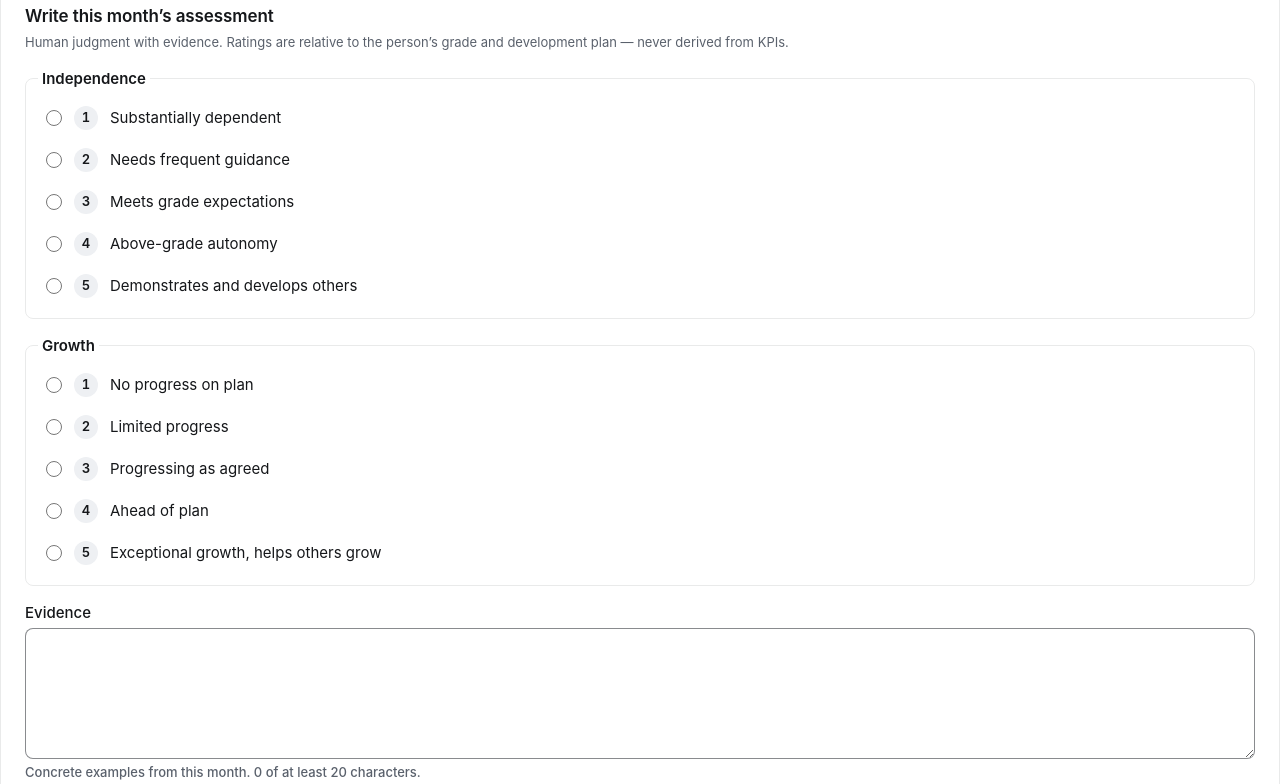
Test case: AssessmentForm › shows server errors accessibly
This screenshot has width=1280, height=784.
Click the radio button named "3: Meets grade expectations": (54,202) [46, 194, 62, 210]
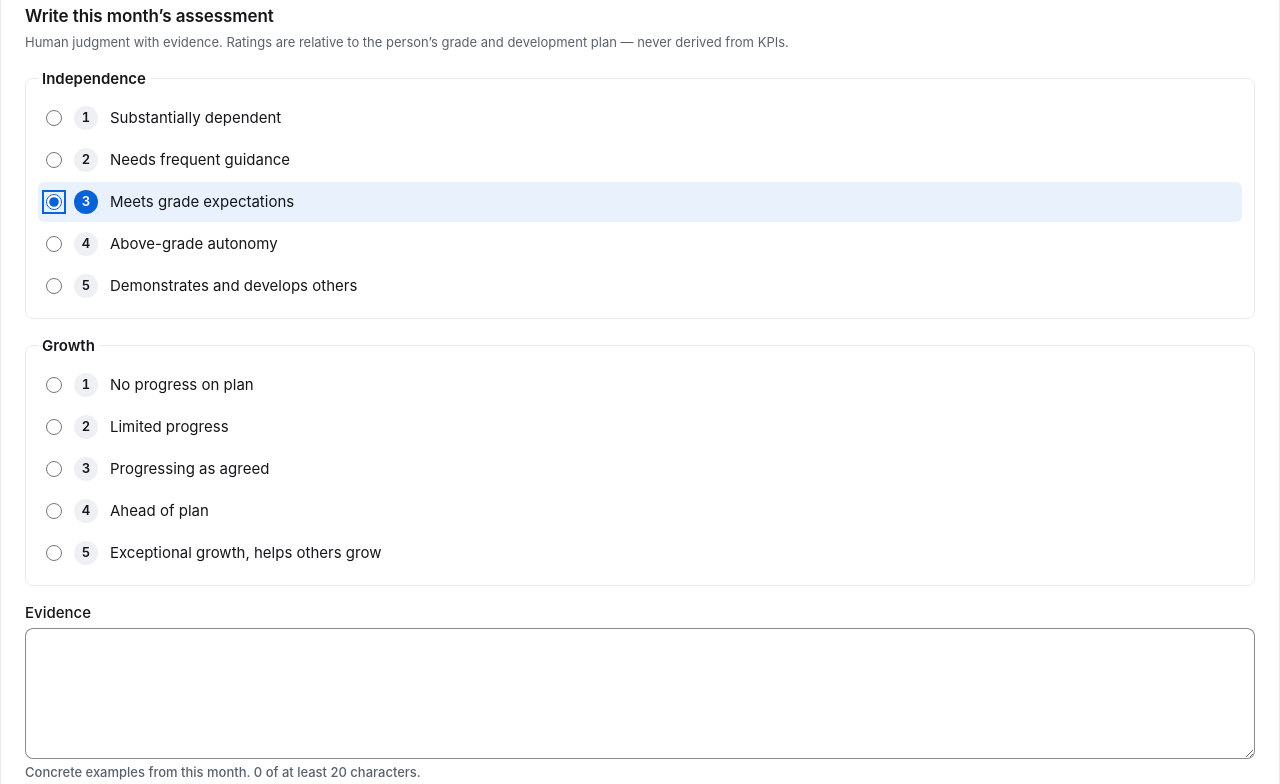
Click the radio button named "3: Progressing as agreed": (54,469) [46, 461, 62, 477]
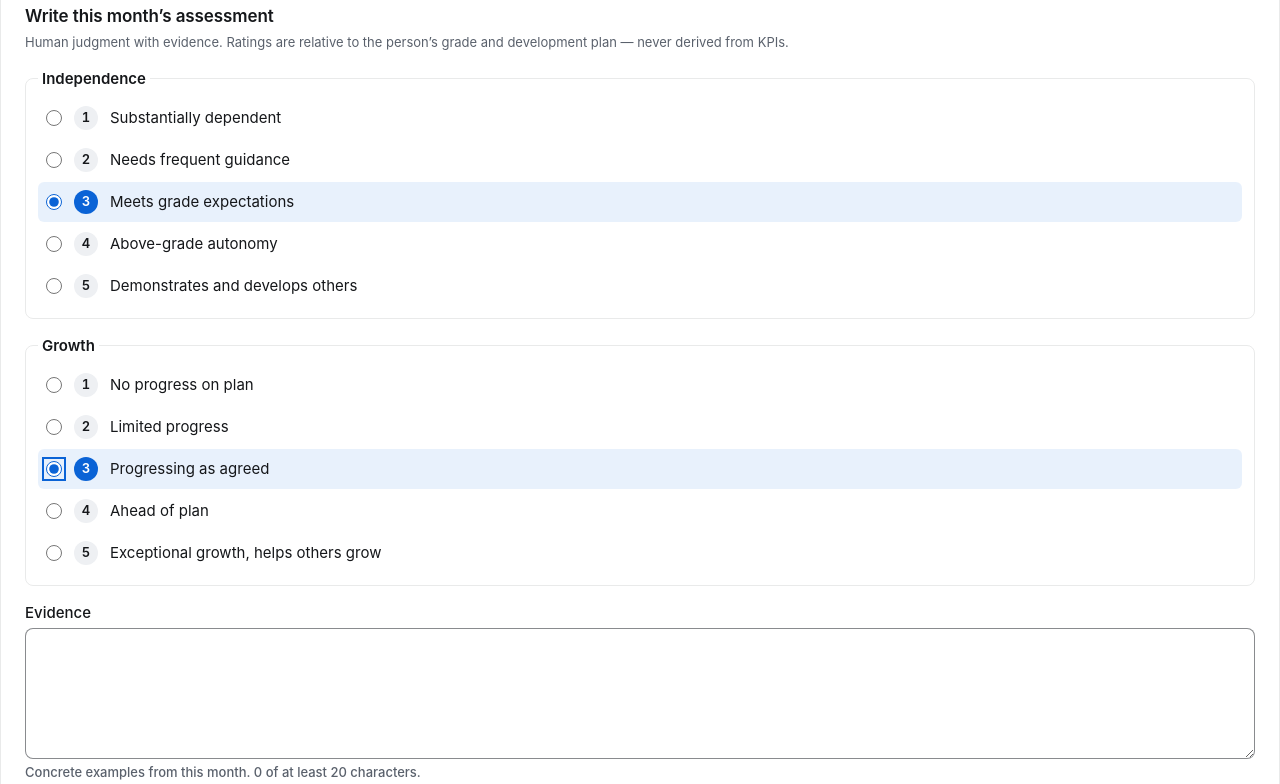
In the text box: (640,693) [25, 628, 1255, 758], type "Evidence that is long enough to pass."
(page scrolled)
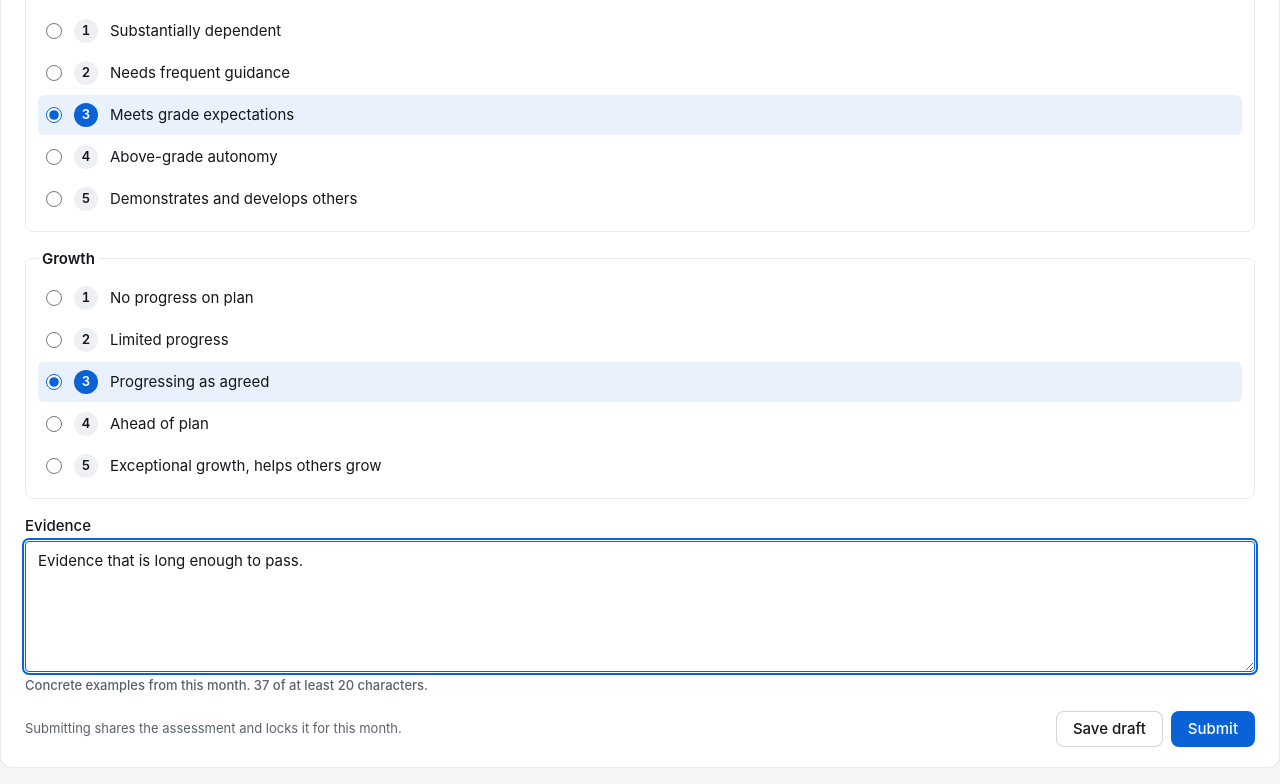
Click the button "Submit": (1213,729) [1171, 711, 1255, 747]
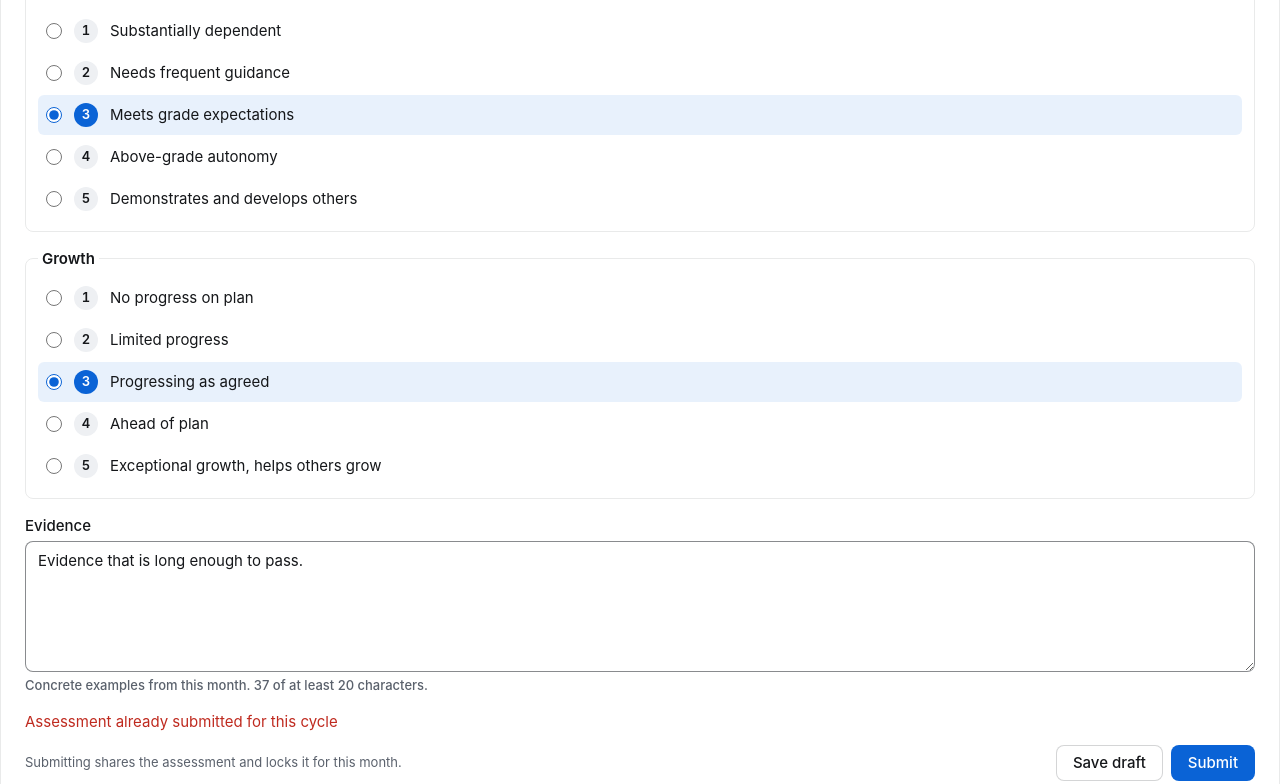
Result: the message shows "already submitted" at [25, 712, 338, 731]
